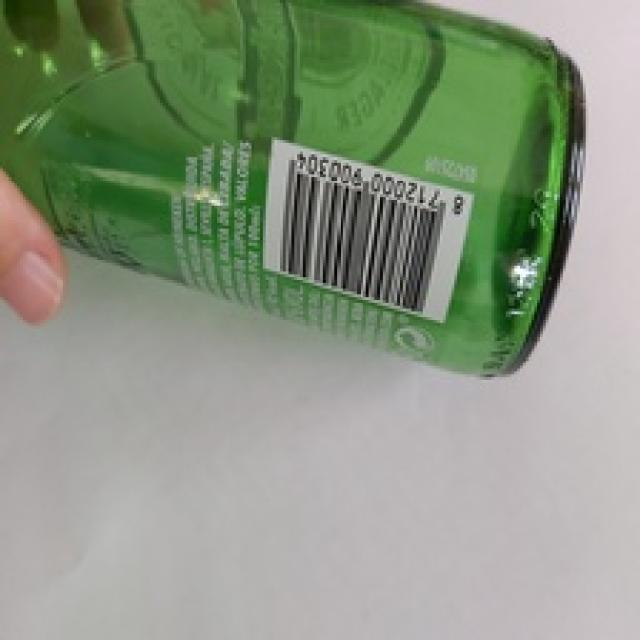Glass: (0, 0, 587, 384)
